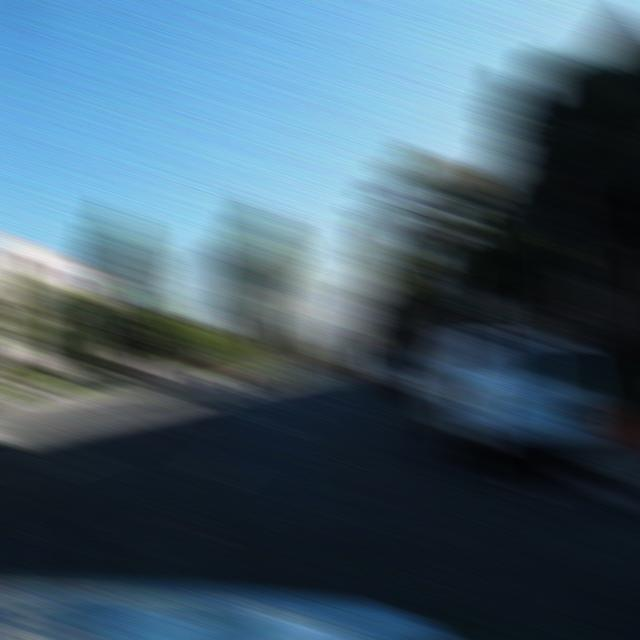speedLimit35: (460, 284, 502, 324), (65, 292, 104, 329)
